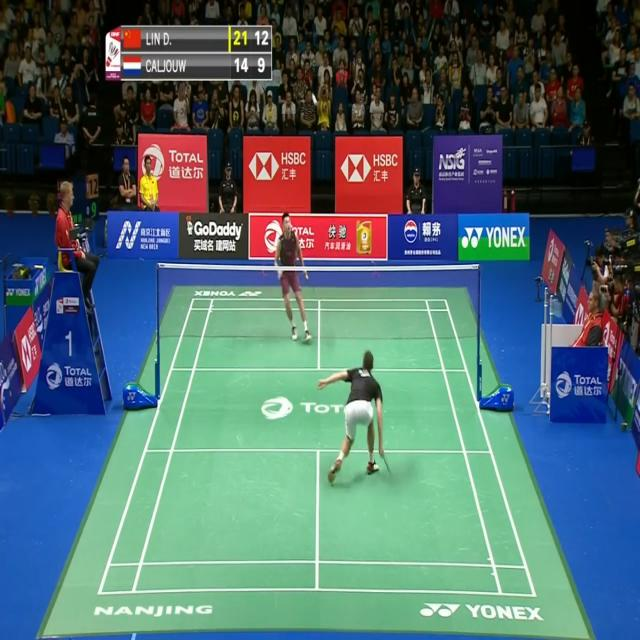Player1: (316, 343, 396, 496)
Player2: (270, 203, 314, 349)
